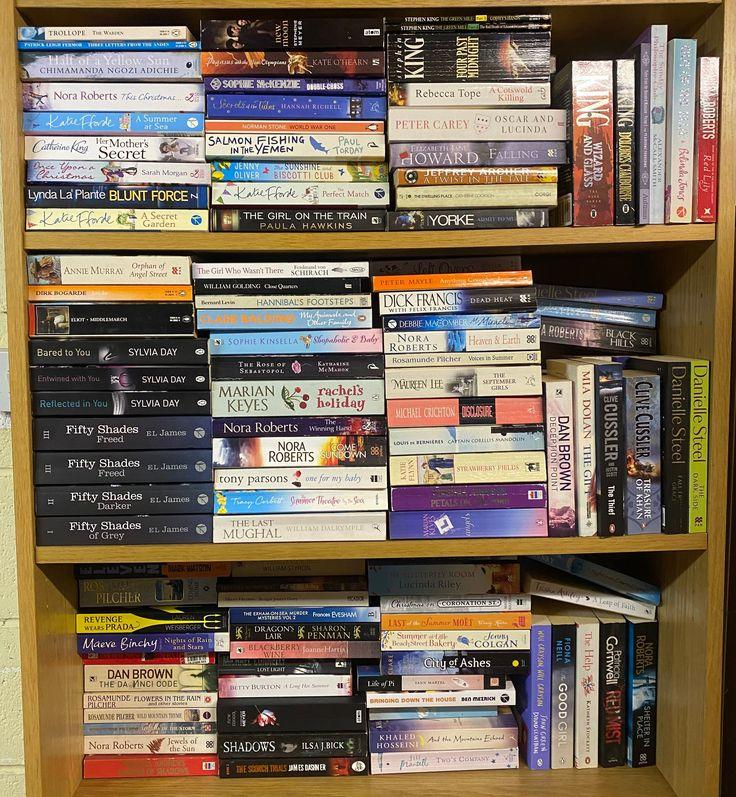book: (33, 451, 212, 486), (32, 417, 211, 451), (39, 485, 217, 519), (663, 38, 695, 225), (212, 380, 382, 414), (389, 108, 562, 140), (391, 451, 549, 486), (542, 373, 575, 540), (384, 366, 543, 400), (204, 328, 387, 357), (20, 52, 205, 80), (28, 254, 195, 285), (214, 516, 390, 545), (21, 83, 202, 111), (30, 366, 210, 394), (371, 716, 512, 751), (385, 395, 544, 426), (31, 391, 212, 418), (379, 286, 540, 316), (206, 354, 384, 381), (387, 142, 557, 170), (26, 160, 209, 186), (389, 425, 546, 455), (379, 328, 541, 357), (21, 112, 206, 137), (391, 483, 545, 513), (26, 136, 208, 161), (213, 490, 387, 516), (389, 81, 553, 108), (206, 94, 390, 118), (213, 466, 388, 491), (381, 312, 542, 339), (210, 184, 391, 208), (694, 57, 720, 224), (38, 518, 210, 543), (208, 161, 387, 185), (612, 59, 637, 225), (30, 208, 208, 231), (200, 76, 387, 97), (374, 651, 519, 678), (195, 293, 374, 314), (191, 261, 373, 281), (20, 24, 200, 44), (77, 633, 220, 657), (381, 350, 543, 371), (31, 342, 209, 361), (197, 311, 373, 330), (226, 622, 377, 644), (380, 593, 530, 614), (206, 119, 387, 136), (84, 704, 217, 726), (224, 605, 377, 624), (387, 12, 552, 28)
